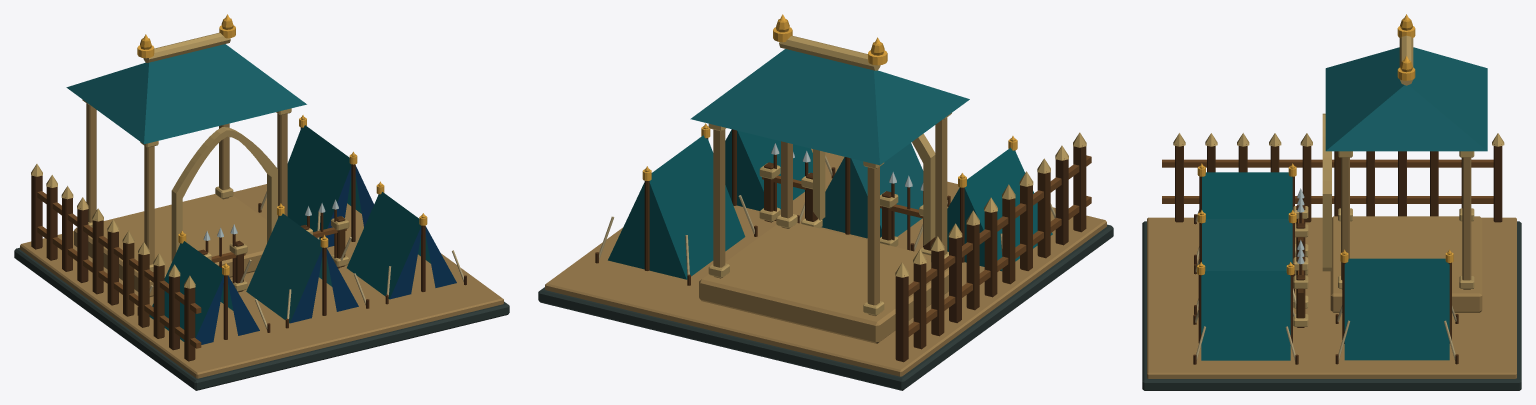
3 renders of one model, left to right at view 1: azimuth 30°, elevation 25°; view 2: azimuth 150°, elevation 25°; view 3: azimuth 270°, elevation 25°, orthographic. The views are drawn at different scales.
Parts seen in each view (by area): view 1: camp_level8_structure, camp_level8_metal; view 2: camp_level8_structure, camp_level8_metal; view 3: camp_level8_structure, camp_level8_metal.
Part boxes in pixels (<box>): camp_level8_structure: <box>14,18,509,390</box>; camp_level8_metal: <box>137,14,427,275</box>; camp_level8_structure: <box>538,19,1113,390</box>; camp_level8_metal: <box>642,14,1017,187</box>; camp_level8_structure: <box>1142,18,1521,390</box>; camp_level8_metal: <box>1197,14,1453,275</box>.
Size of the model in its own units: 5.6 by 4.18 by 5.6.
